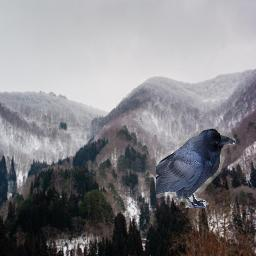Crow: (156, 128, 236, 208)
